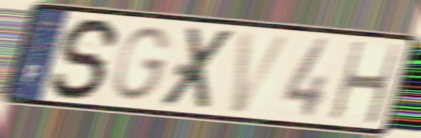4: (280, 35, 330, 121)
G: (109, 24, 175, 104)
H: (327, 39, 404, 128)
S: (48, 15, 124, 102)
V: (226, 29, 297, 116)
X: (157, 25, 240, 111)
